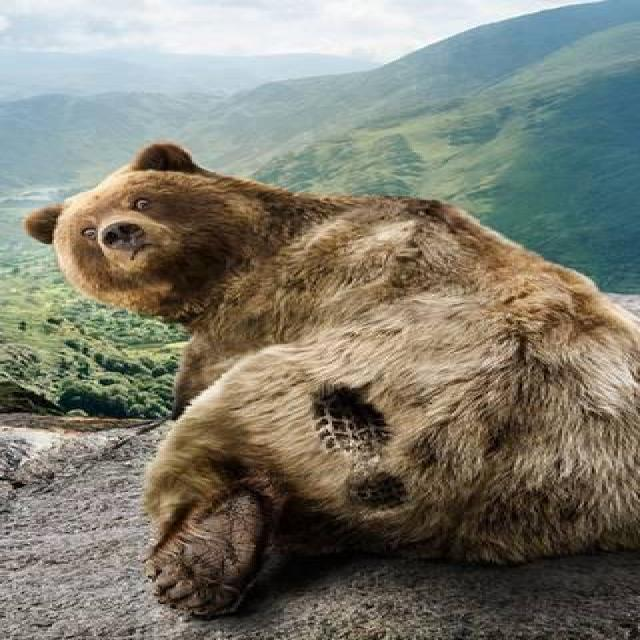Bear: (22, 141, 640, 621)
